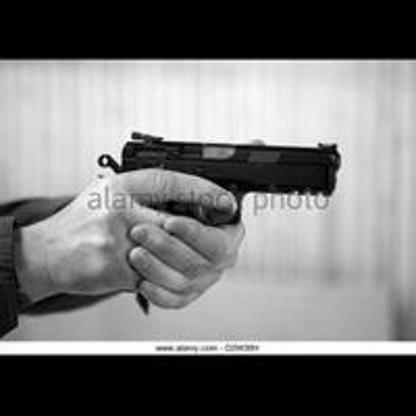weapon: (91, 125, 340, 236)
